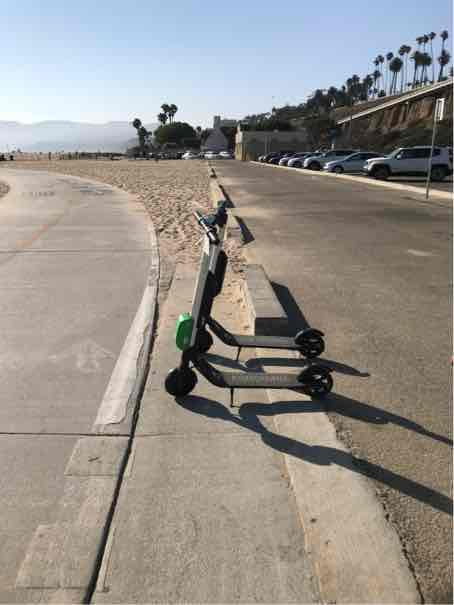scooter: (152, 195, 339, 399)
